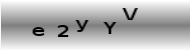2: (55, 24, 68, 37)
V: (121, 6, 138, 20)
Y: (102, 21, 116, 34)
e: (32, 25, 44, 36)
y: (74, 19, 89, 32)
